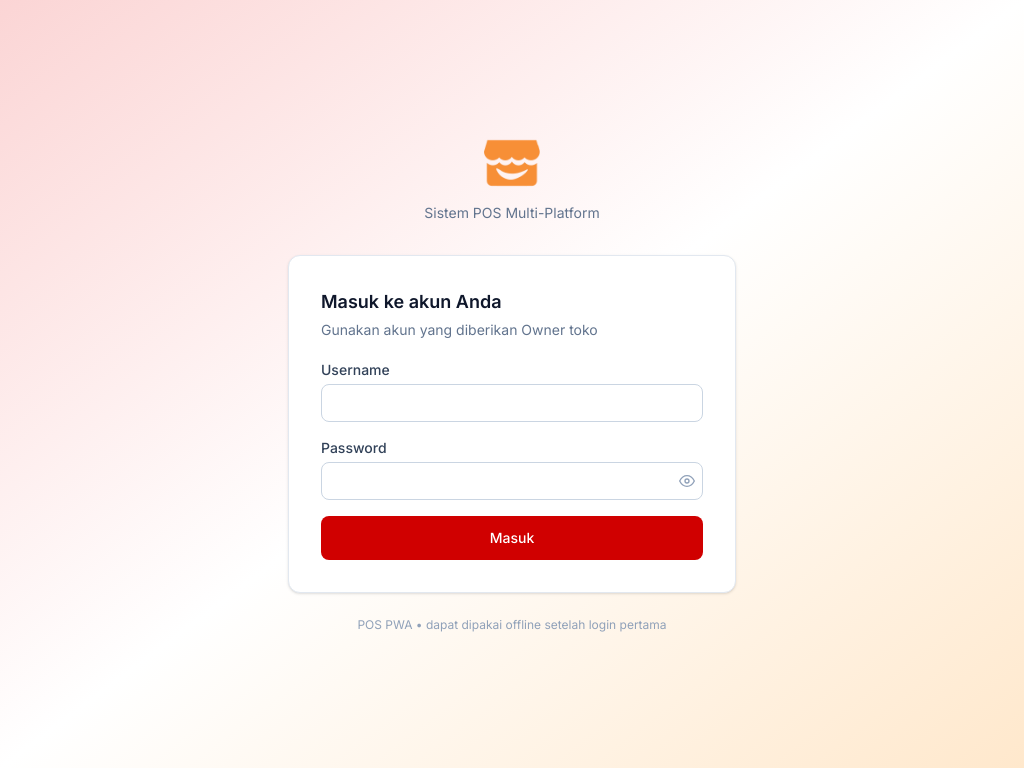
Test: LoginPage › nampilin pesan error kalau login gagal, dan TETAP di halaman login
The image size is (1024, 768).
Type "owner" into the field labelled "Username" at (512,403), box [321, 384, 703, 422]
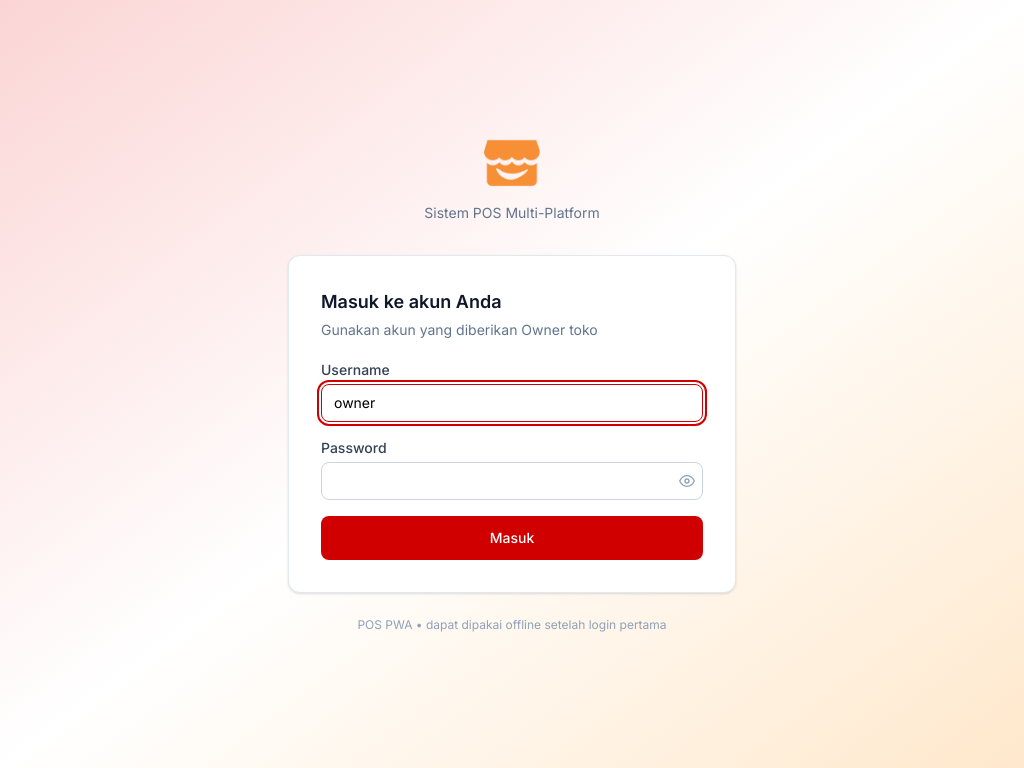
Type "salah-banget" into the password field labelled "Password" at (512,481), box [321, 462, 703, 500]
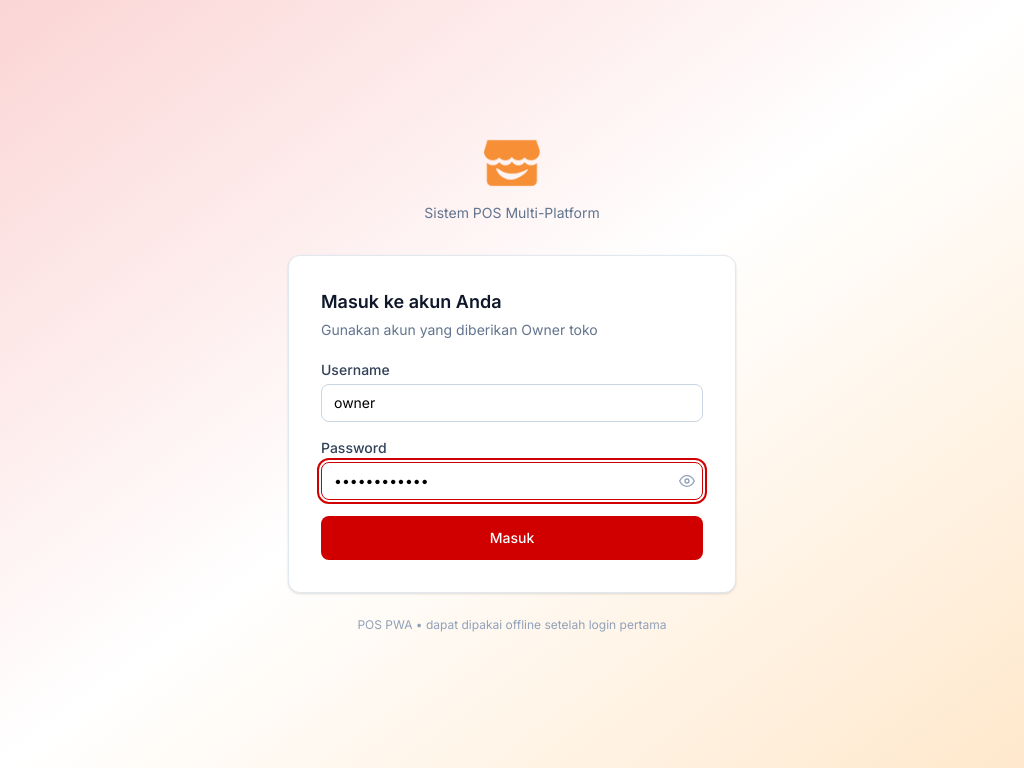
Click the button "Masuk" at (512,538), box [321, 516, 703, 560]
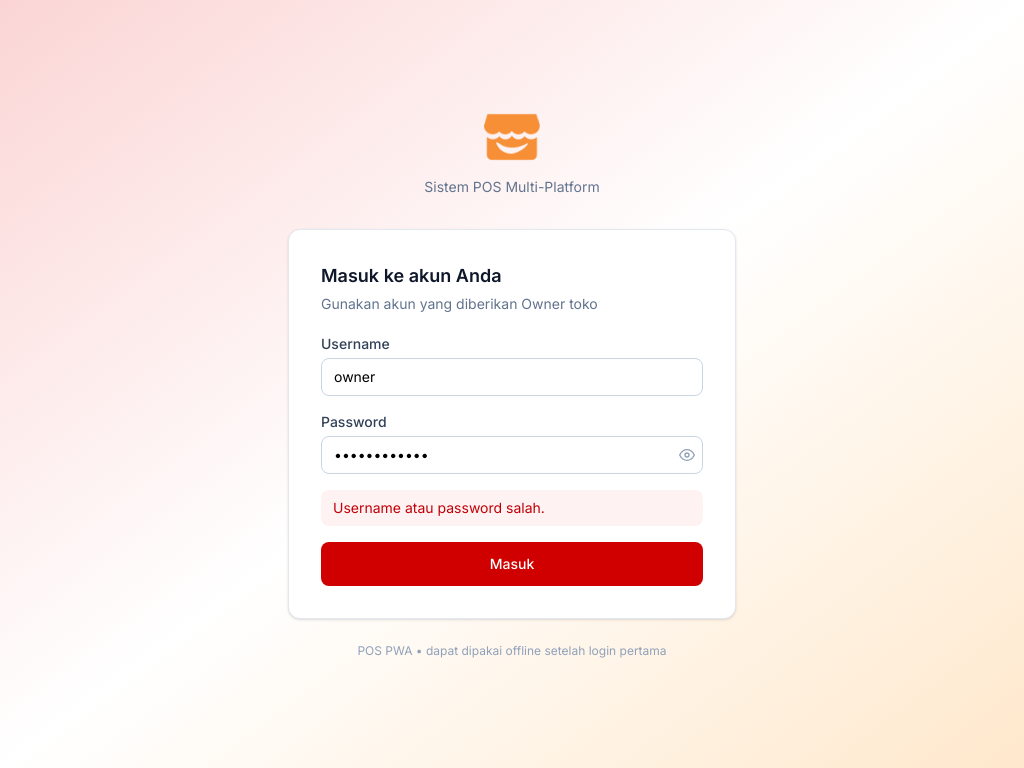
Expected: the heading "Masuk ke akun Anda" is shown, [321, 265, 502, 286]
Now the message reads "Username atau password salah.", box [333, 499, 545, 516]
